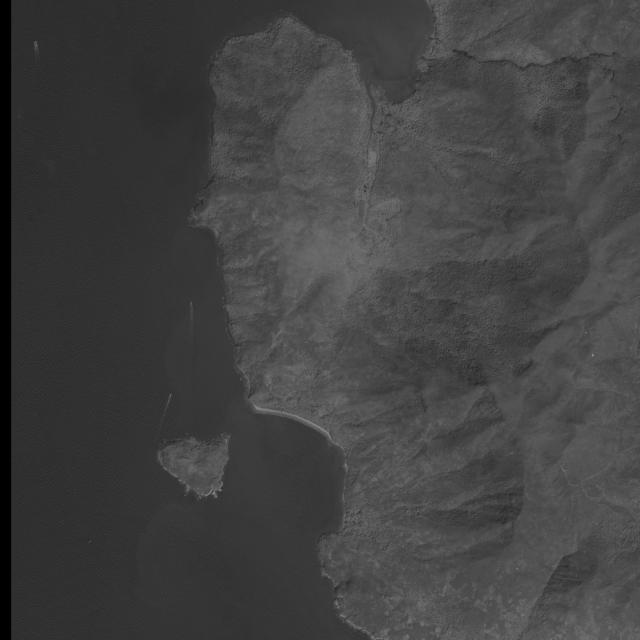ship: (169, 393, 172, 397), (34, 41, 37, 45), (190, 301, 192, 305)
